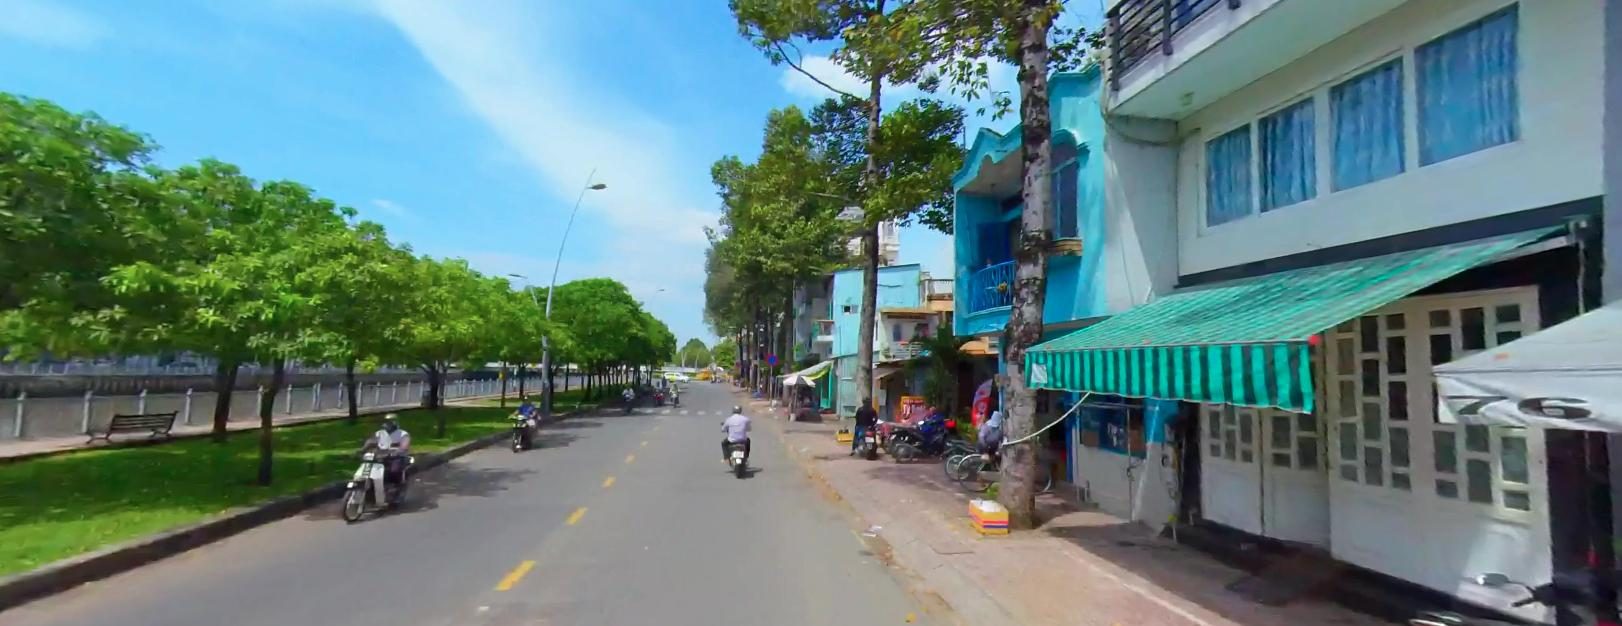Cam dung va do: (765, 352, 777, 364)
